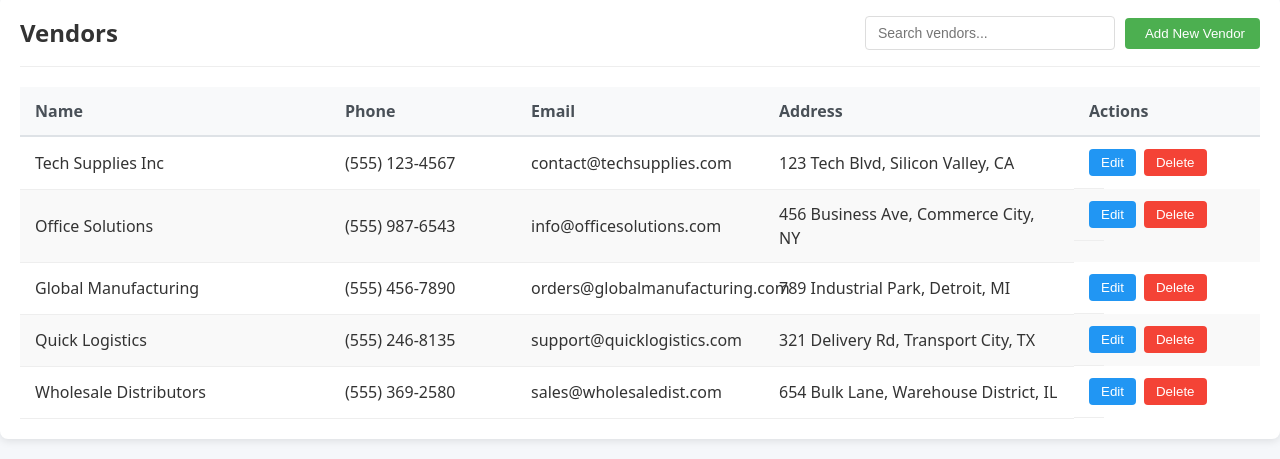
Test case: VendorList Component › filters vendors when searching
Note: Get the search input and type in it
Type "Office" into the field with placeholder "Search vendors..." at (990, 33), box [865, 16, 1115, 50]
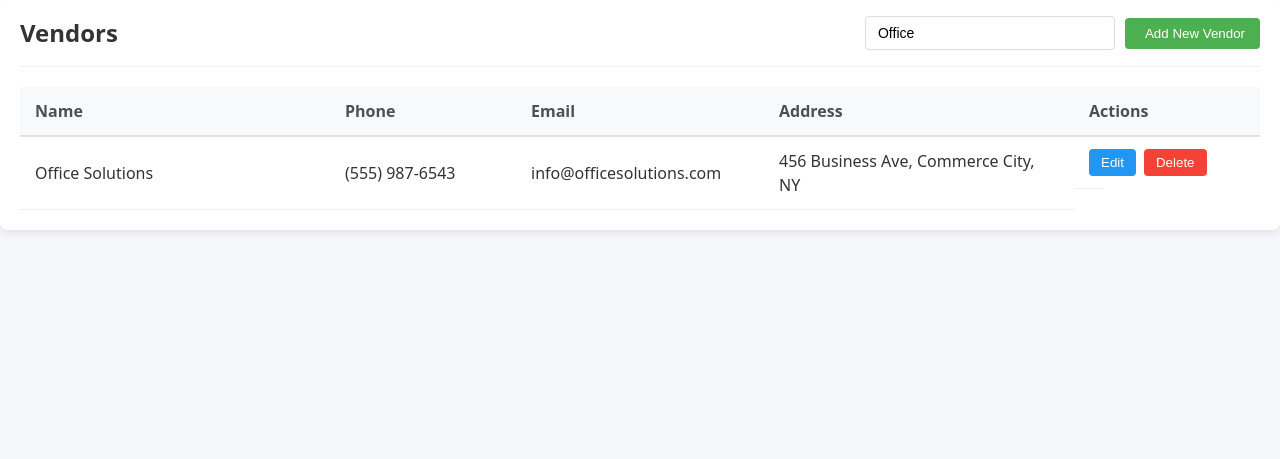
Expected: the text "Office Solutions" is shown, [20, 136, 330, 210]
Expected: the text "Tech Supplies Inc" is gone
